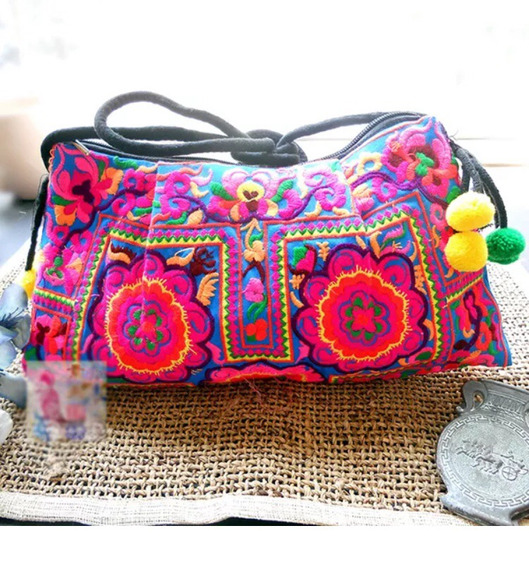cartera: (23, 91, 521, 389)
